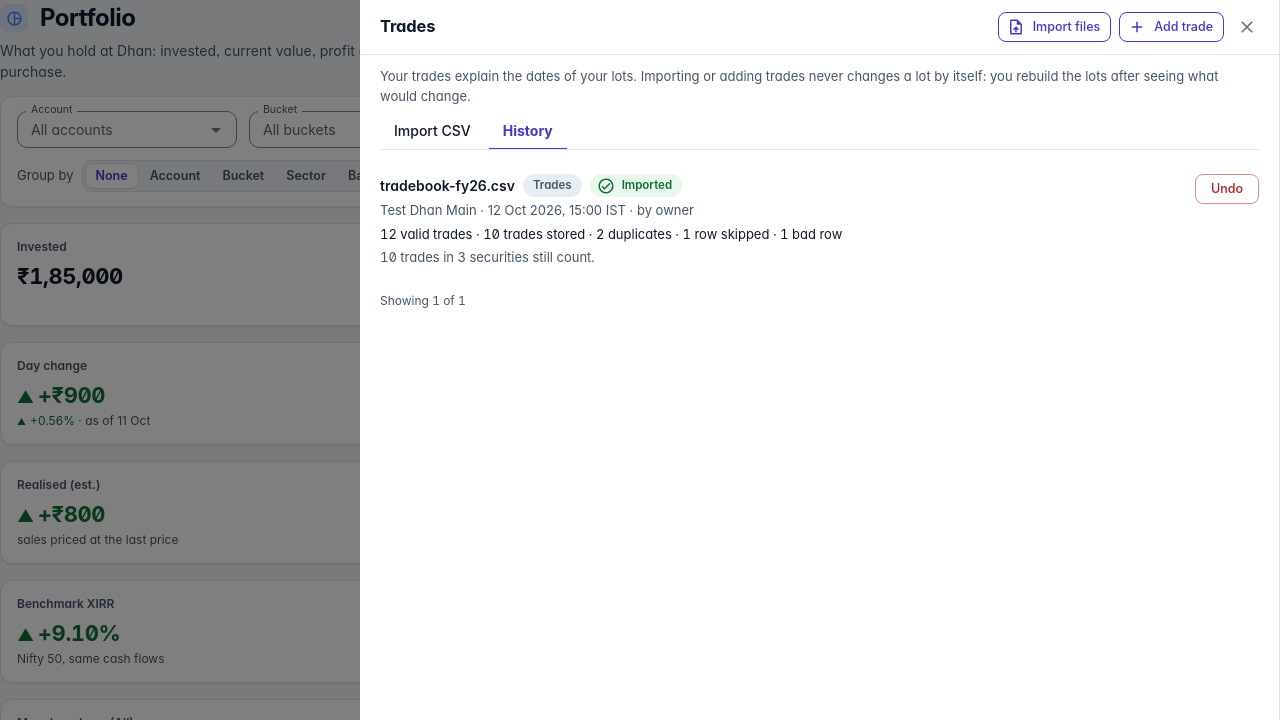
Test: Undo an import › cannot be confirmed before the dry run is there, and shows its error with Retry
Click the button with aria-label "Undo the import of tradebook-fy26.csv".
click(1227, 189)  # box left=1195, top=174, right=1259, bottom=204
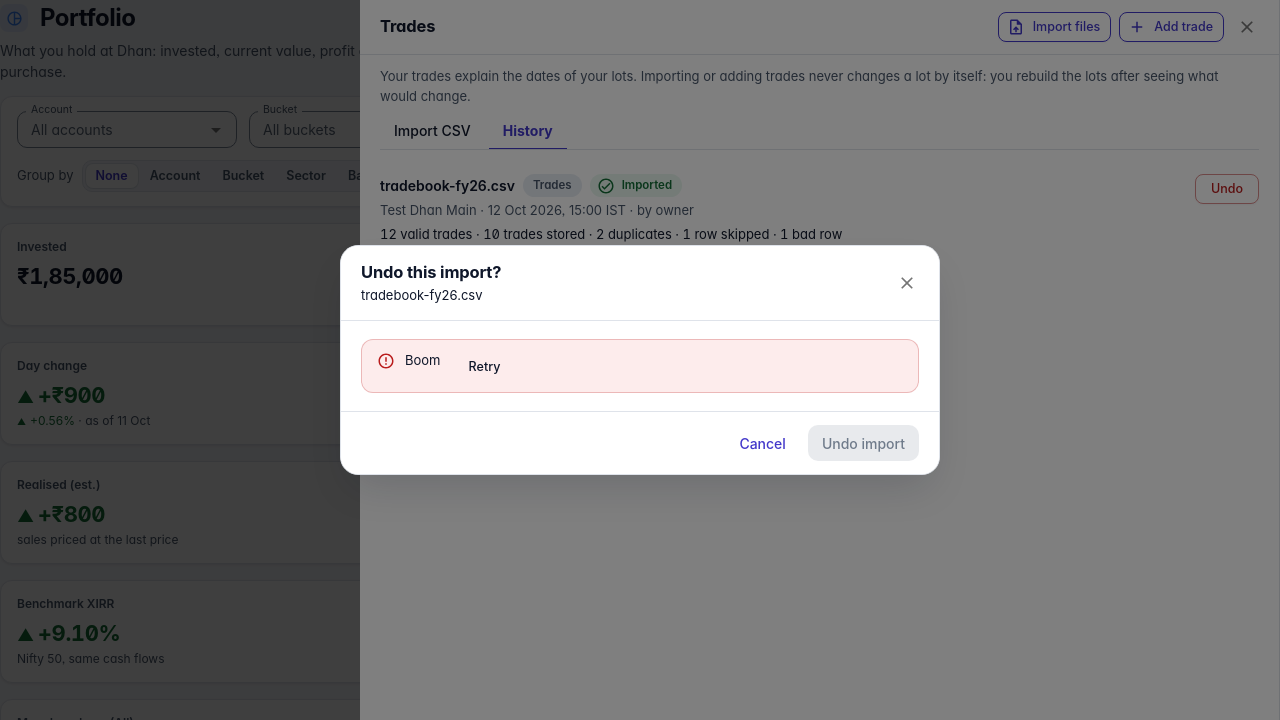
Check: the text "Boom" is shown, box left=405, top=351, right=440, bottom=371
Check: the button "Undo import" is disabled, box left=808, top=425, right=919, bottom=461
Click the button "Retry".
click(484, 366)  # box left=452, top=351, right=516, bottom=381
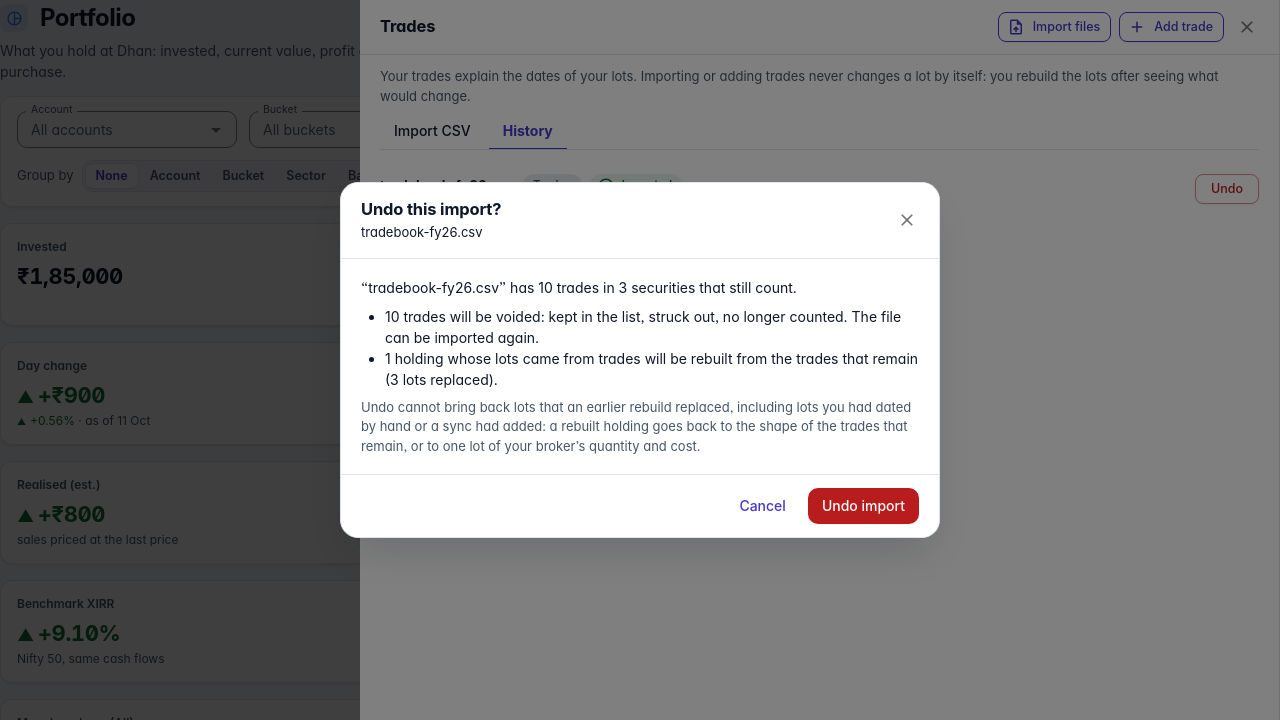
Check: the list item "10 trades will be voided" is shown, box left=385, top=308, right=901, bottom=346
Check: the button "Undo import" is enabled, box left=808, top=488, right=919, bottom=524
